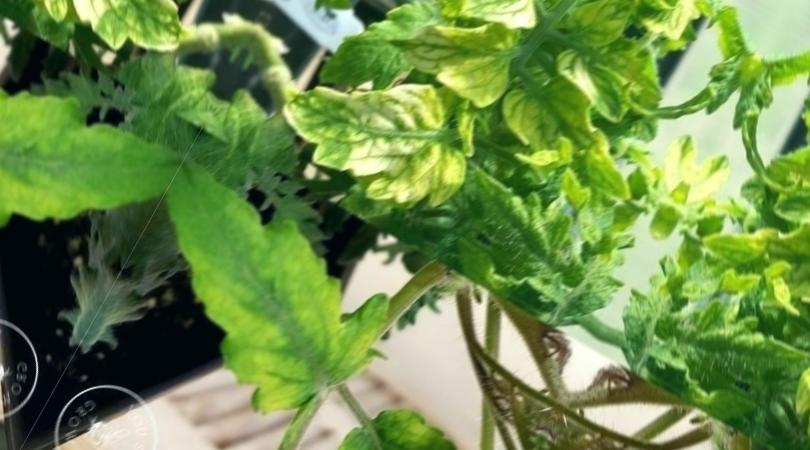Tomato leaf yellow virus: (97, 149, 431, 450), (260, 25, 494, 230), (470, 53, 653, 205), (358, 0, 533, 131), (529, 0, 684, 129), (332, 0, 605, 59), (291, 379, 512, 450), (284, 0, 406, 36)
